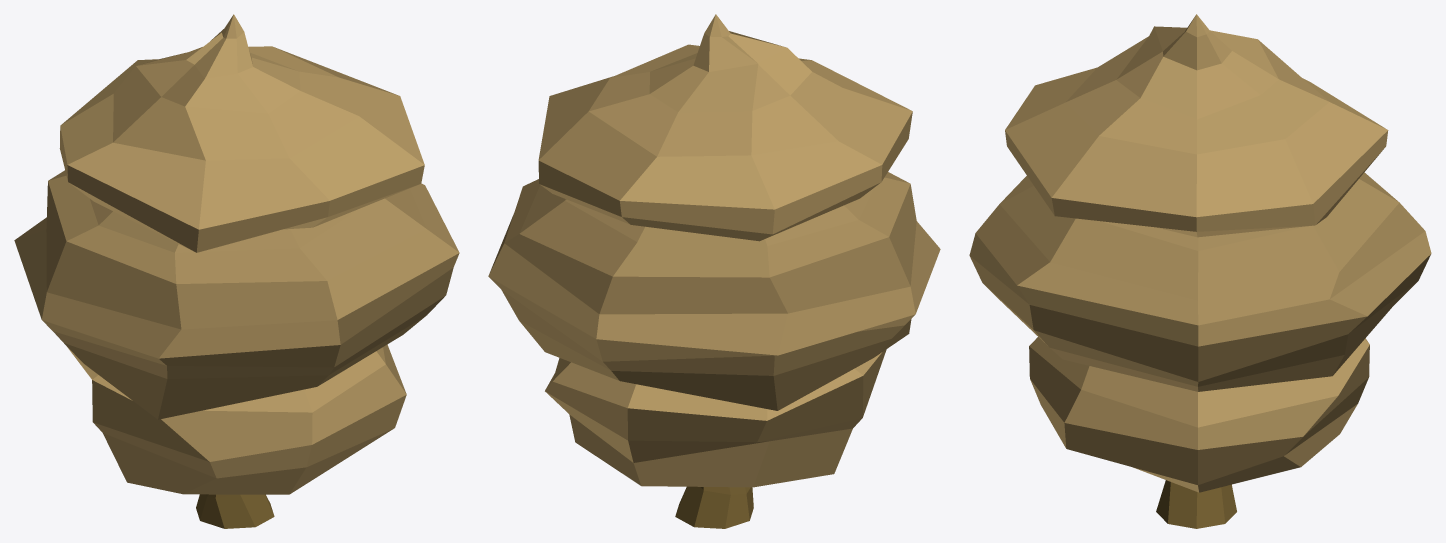
The model's file is Tree5.fbx.
3 views of the same model, side by side, from view 1: azimuth 30°, elevation 25°; view 2: azimuth 150°, elevation 25°; view 3: azimuth 270°, elevation 25° (orthographic).
Visible parts, largest first — view 1: Circle.007; view 2: Circle.007; view 3: Circle.007.
Boxes of the visible parts, left/top/right/bottom form: Circle.007: left=14, top=14, right=459, bottom=528; Circle.007: left=488, top=14, right=940, bottom=528; Circle.007: left=969, top=14, right=1431, bottom=528.
Size of the model in its own units: 9.43 by 11.43 by 9.63.
